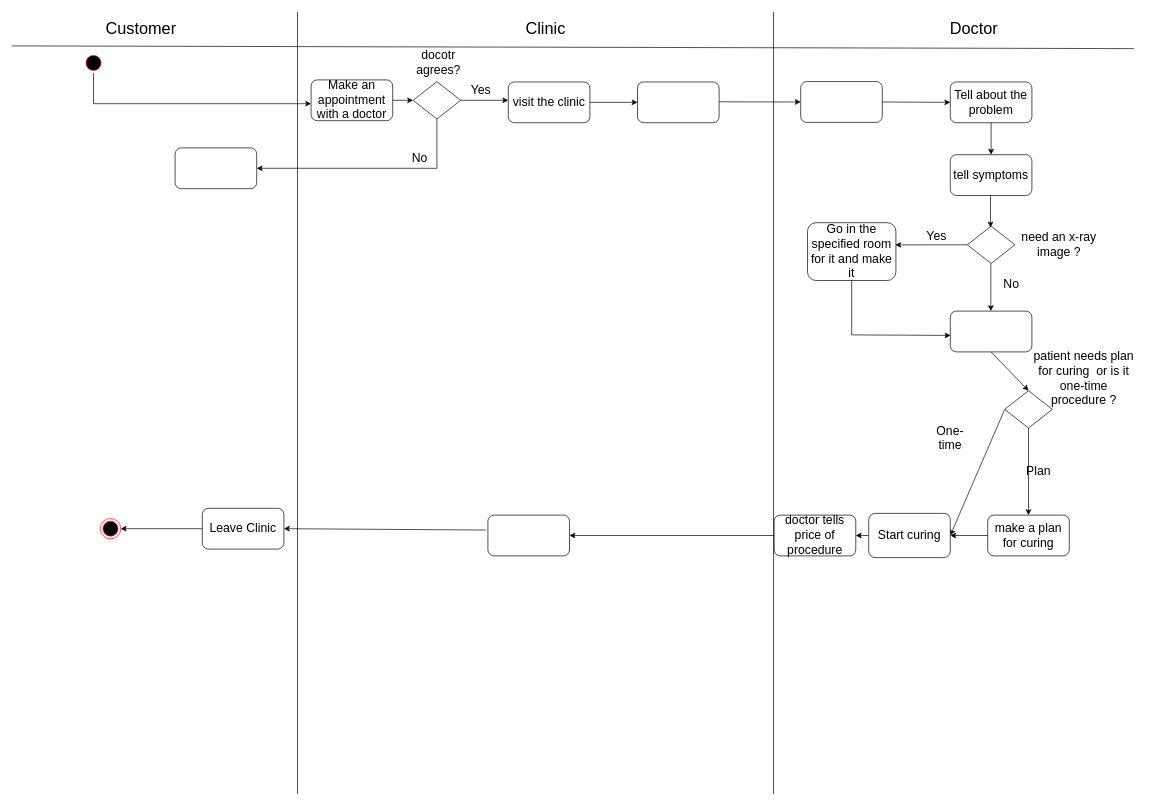
Some shapes in this 1149 by 806 pixel diagram are drawn without their labels. The centre of each missing label's shape, as x and y in pixels:
Doctor sets diagnosis: point (991, 331)
Find another doctor / clinic: point (215, 168)
Patient pays for the service: point (528, 535)
visit the doctor: point (841, 101)
wait till the doctor: point (678, 102)
